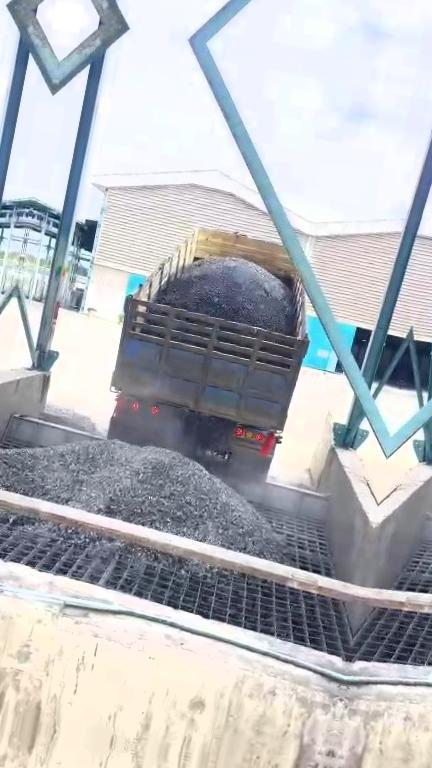gravel: (0, 440, 284, 561), (0, 505, 219, 573), (155, 256, 294, 335), (40, 404, 98, 433)
